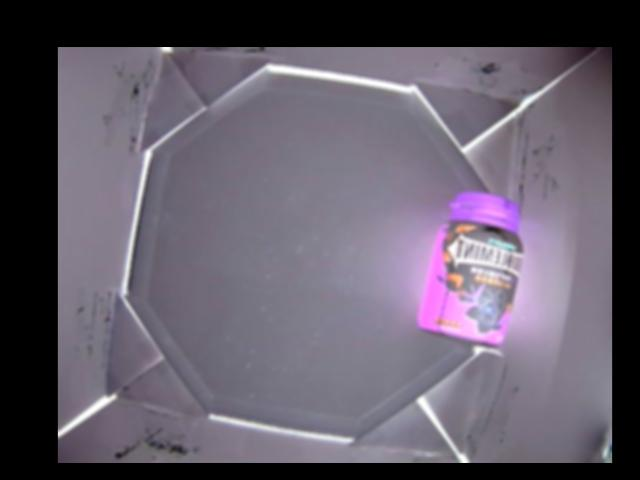Bottle: (419, 194, 524, 351)
